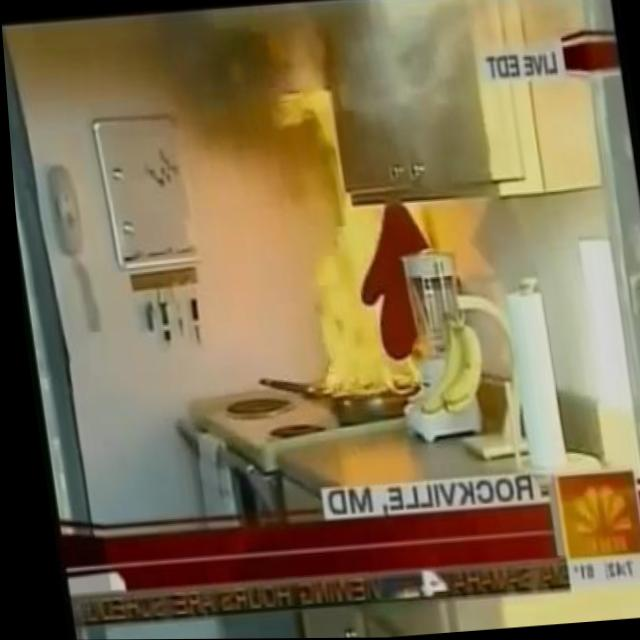fire: (277, 189, 422, 407)
